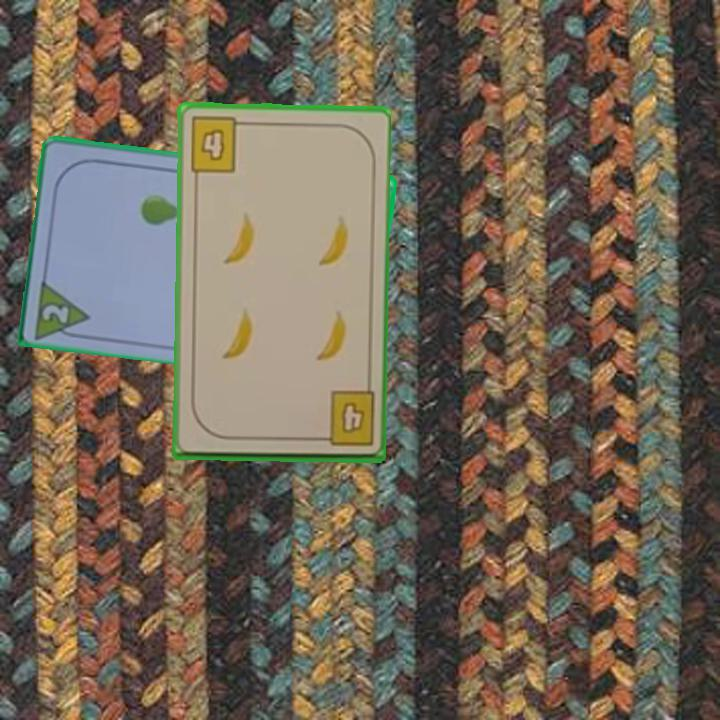2p: (38, 300, 73, 326)
4b: (311, 388, 377, 450), (186, 114, 249, 175)
